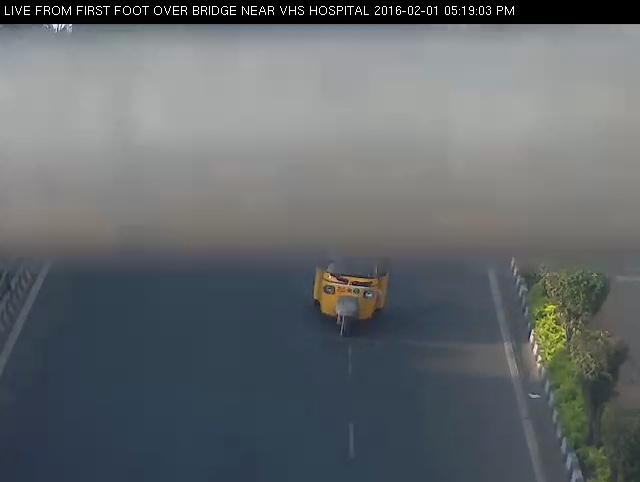Auto: (302, 246, 405, 345)
